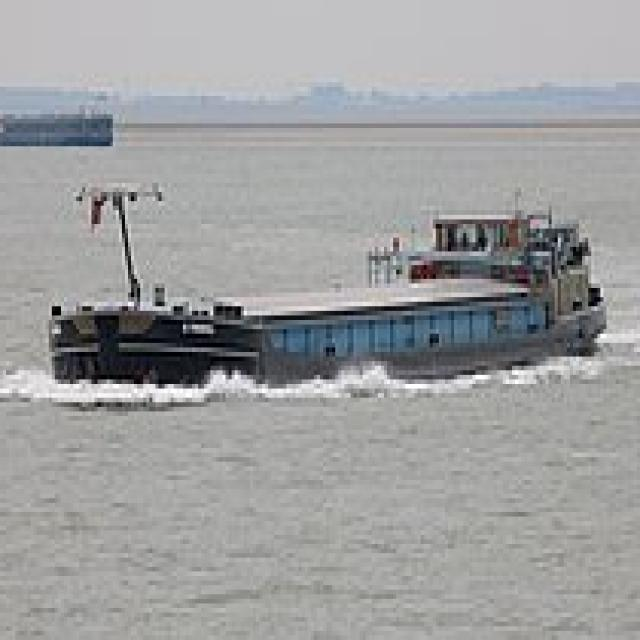Cargo: (52, 178, 612, 389)
